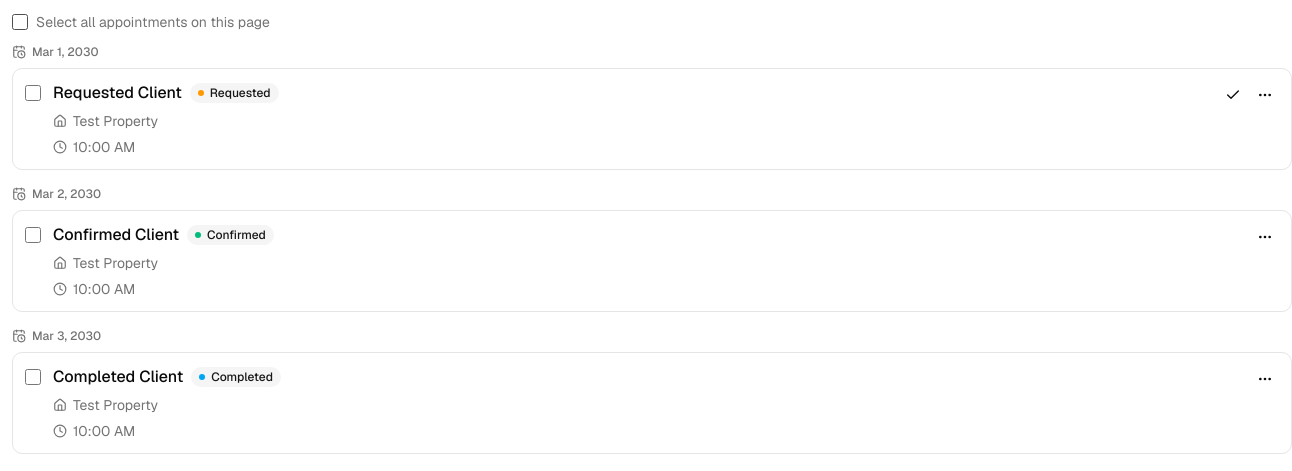
Test: AppointmentsTable › below md (card presentation) › still drives every action from AppointmentActionPolicy
This screenshot has width=1292, height=471.
# REQUESTED keeps its promoted Confirm button…
What coordinates should you click on to do the following:
click the button named "Confirm appointment with Requested Client"
I would click on:
 (1233, 95)
Its box is left=1219, top=81, right=1247, bottom=109.
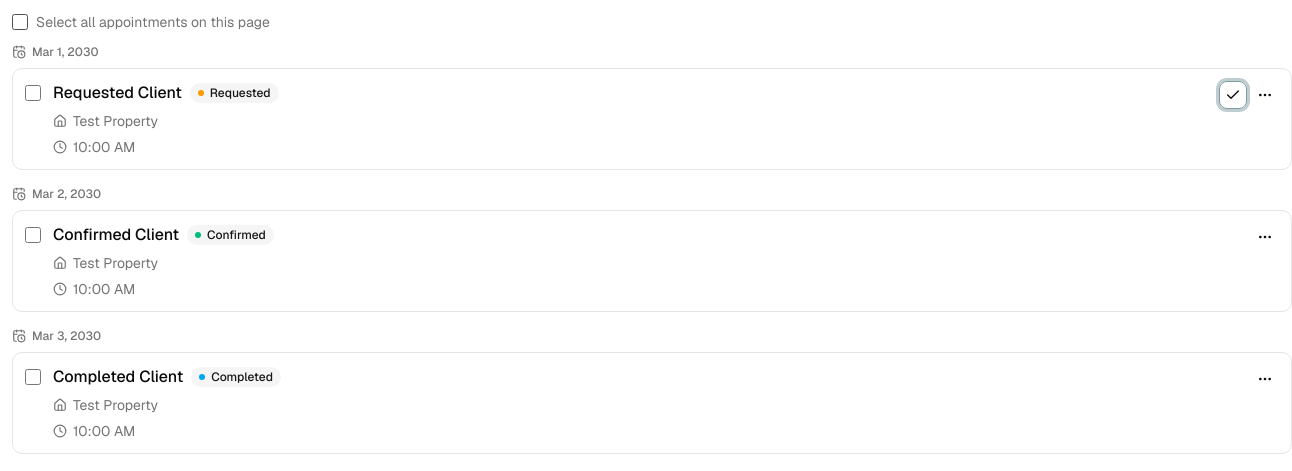
# …and a terminal appointment still offers no lifecycle actions.
What coordinates should you click on to do the following:
click the button named "Actions for Completed Client"
I would click on:
 (1265, 379)
Its box is left=1251, top=365, right=1279, bottom=393.
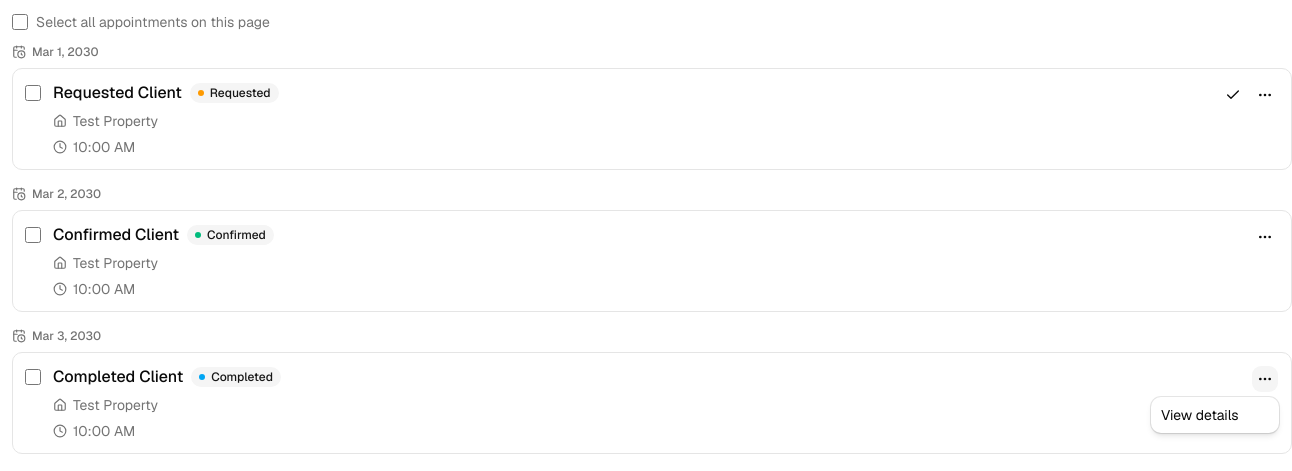
Expected: the menu item "View details" is shown, left=1161, top=406, right=1239, bottom=424
